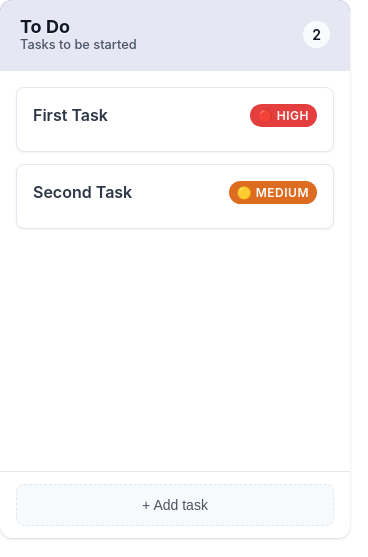
KanbanColumn Component › Adding New Tasks › should enter add task mode when add button is clicked
The image size is (368, 557).
Click the button "+ Add task": [175, 505] box [16,484,334,526]
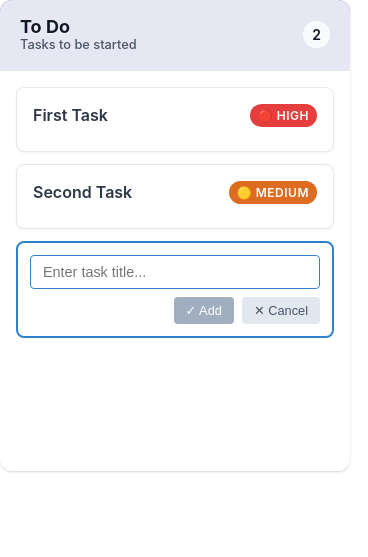
Check: the field with placeholder "Enter task title..." is shown, box [30,255,320,289]
